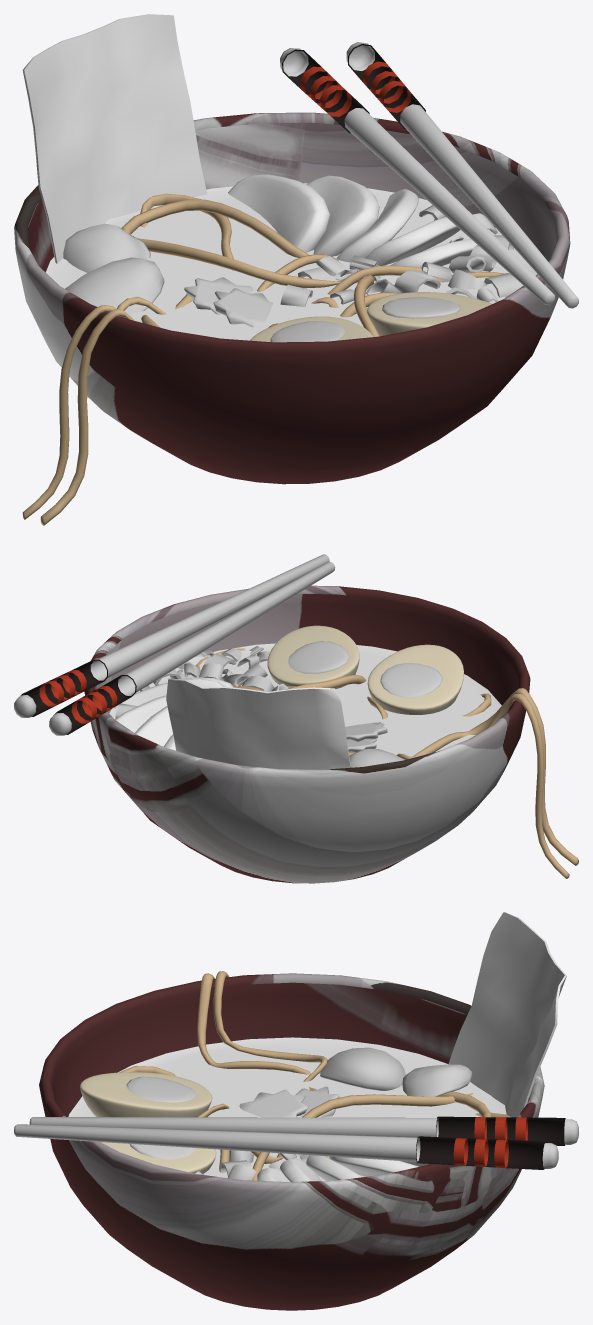
File: Ramen Bowl.fbx
3 renders of one model, top to bottom at view 1: azimuth 30°, elevation 25°; view 2: azimuth 150°, elevation 25°; view 3: azimuth 270°, elevation 25°, orthographic. The views are drawn at different scales.
Parts seen in each view (by area): view 1: Ramen-1; view 2: Ramen-1; view 3: Ramen-1.
Part boxes in pixels (x1,y1,x2,y2): Ramen-1: [14, 14, 578, 525]; Ramen-1: [14, 554, 578, 883]; Ramen-1: [14, 912, 578, 1310].
Bounding box in the file's own units: 0.1628 × 0.1632 × 0.0899.
